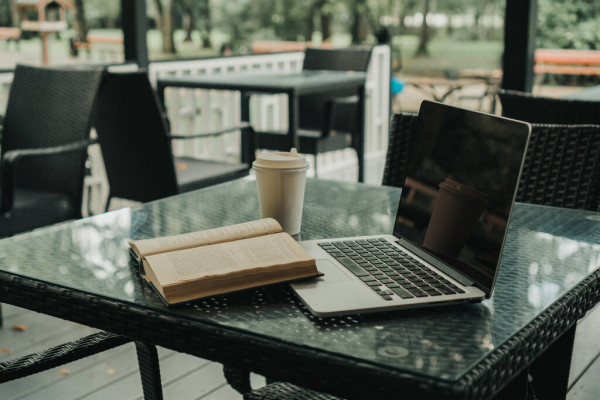Open Book: (130, 214, 323, 308)
